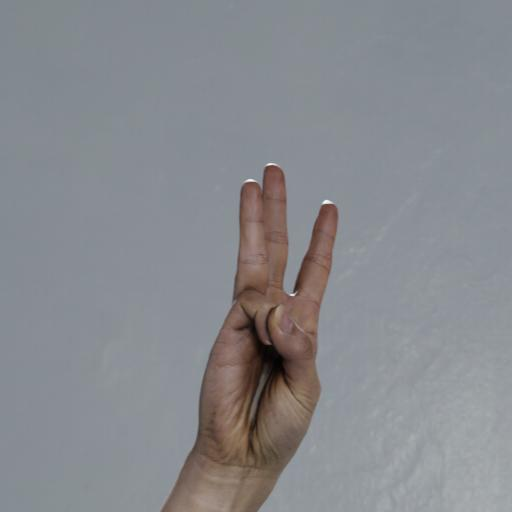W: (186, 144, 347, 486)
